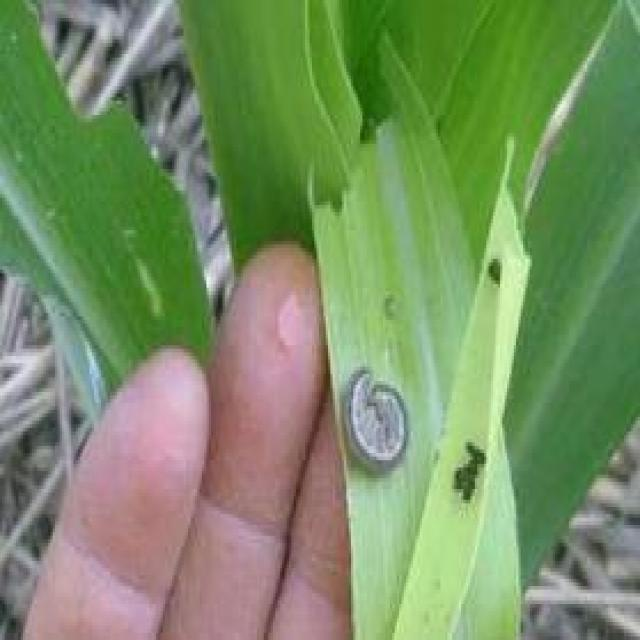BeetArmyWorm-Larva-: (339, 359, 416, 478)
